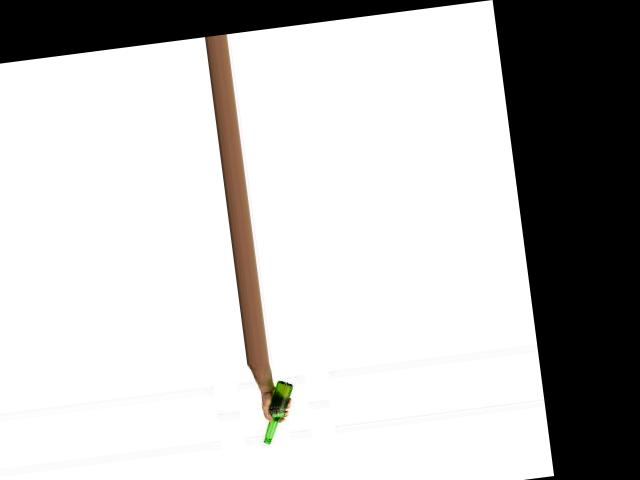beer: (255, 379, 299, 444)
